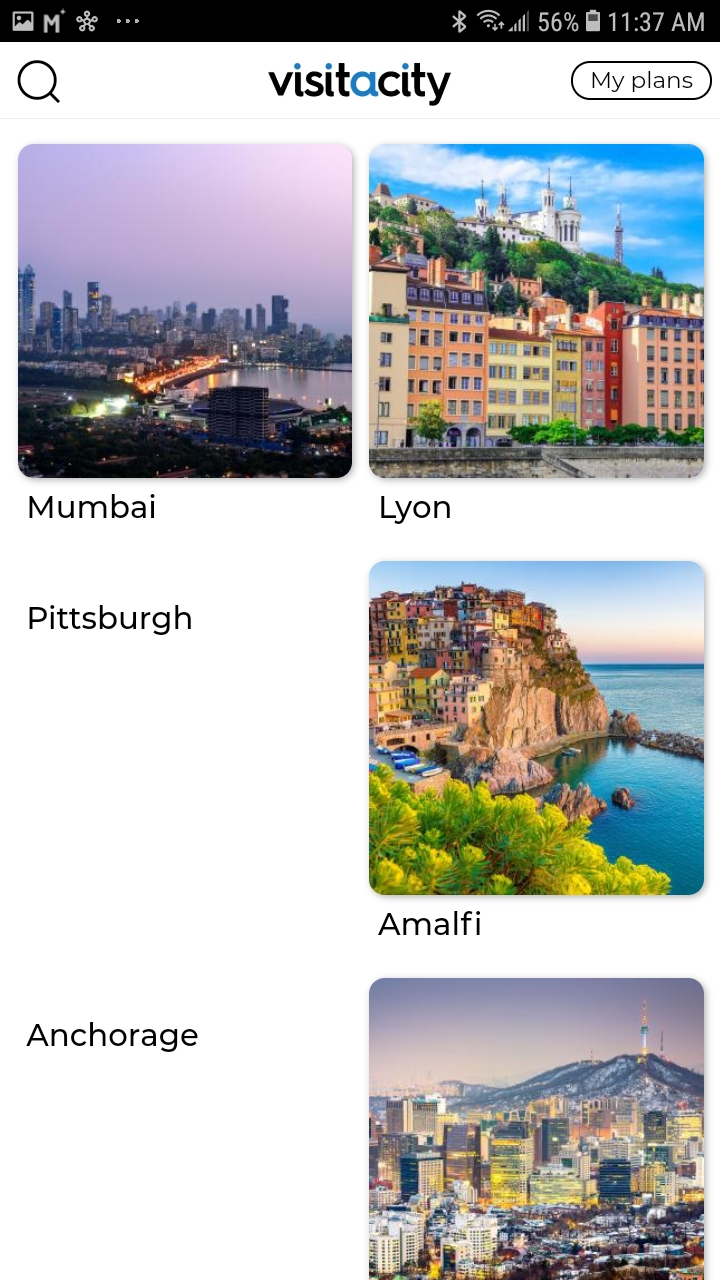Icon: (18, 60, 62, 105)
Image: (369, 561, 705, 896), (18, 144, 353, 479), (369, 144, 704, 479), (369, 978, 705, 1280), (268, 63, 452, 107)
Text: (27, 1021, 199, 1053), (30, 604, 193, 636), (29, 494, 156, 520), (378, 910, 481, 936), (381, 495, 451, 525)
TextButton: (571, 61, 713, 102)
UpperTaskBar: (1, 1, 720, 43)
